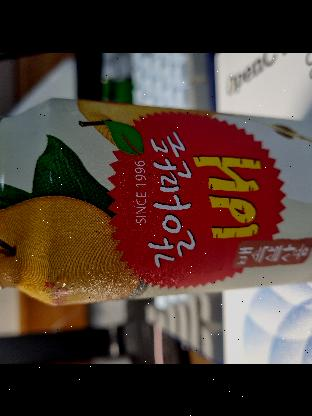Can: (0, 104, 312, 305)
